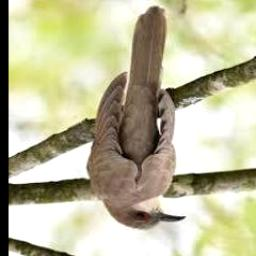Cuckoo: (87, 6, 186, 230)
